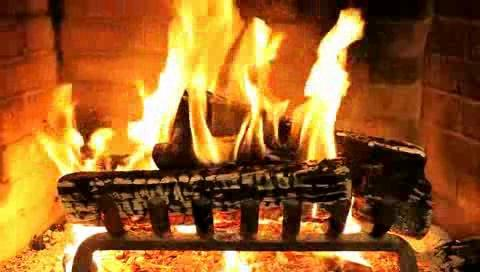fire: (28, 3, 381, 270)
